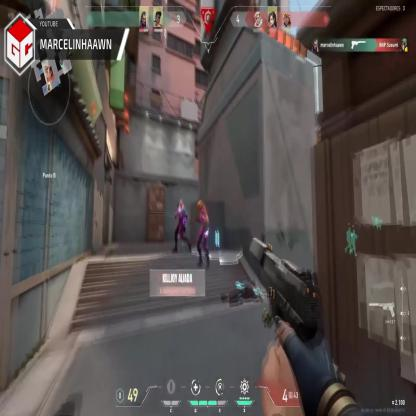enemy: (194, 199, 210, 268), (173, 198, 191, 258)
enemy_head: (198, 201, 204, 212), (180, 201, 183, 208)
